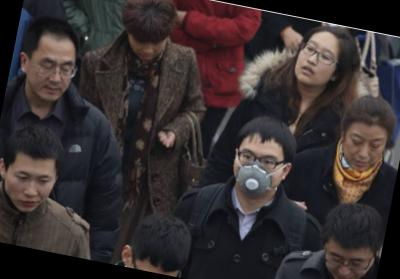with_mask: (227, 143, 287, 202)
without_mask: (23, 48, 78, 105), (1, 162, 57, 217), (290, 34, 341, 93), (337, 126, 388, 175), (317, 243, 377, 279), (128, 32, 167, 64)
